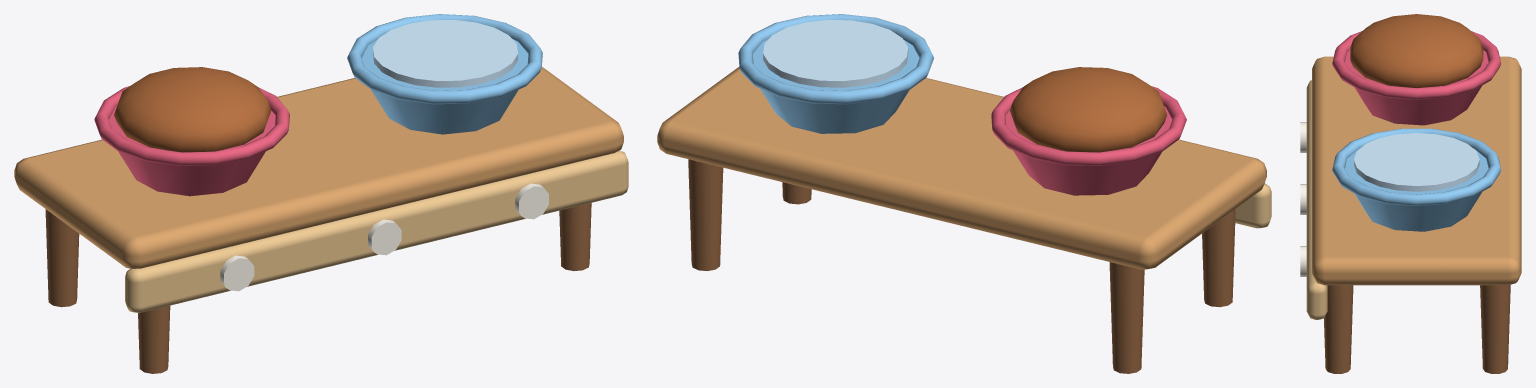
The model's file is catfood-stand.glb.
3 views of the same model, side by side, from view 1: azimuth 30°, elevation 25°; view 2: azimuth 150°, elevation 25°; view 3: azimuth 270°, elevation 25° (orthographic). The views are drawn at different scales.
Bounding box in the file's own units: 0.95 × 0.4235 × 0.422.
